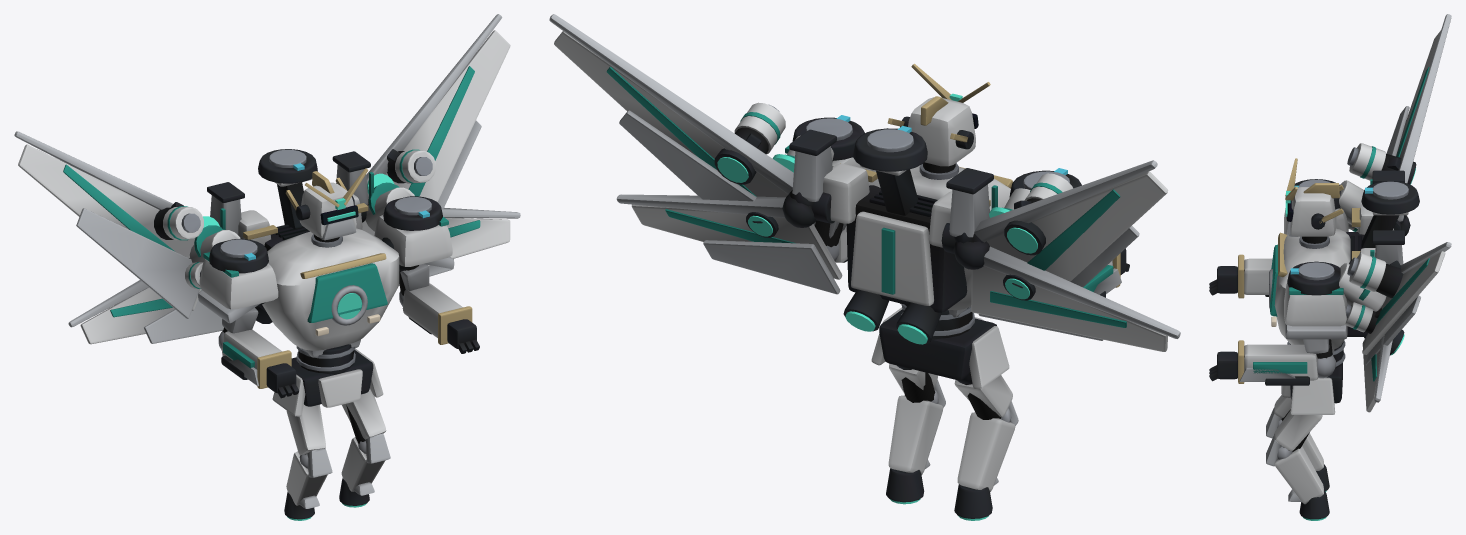
File: ex_seraph_4.glb
3 renders of one model, left to right at view 1: azimuth 30°, elevation 25°; view 2: azimuth 150°, elevation 25°; view 3: azimuth 270°, elevation 25°, orthographic. The views are drawn at different scales.
Visible parts, largest first — view 1: body, flap_4, flap_0, flap_5, flap_1; view 2: body, flap_0, flap_4, flap_1, flap_5; view 3: body, flap_0, flap_4, flap_1.
Part boxes in pixels (bbox=[...]): body: bbox=[189, 149, 479, 520]; flap_4: bbox=[14, 131, 203, 318]; flap_0: bbox=[366, 14, 510, 208]; flap_5: bbox=[68, 258, 223, 344]; flap_1: bbox=[362, 207, 520, 285]; body: bbox=[772, 63, 1129, 520]; flap_0: bbox=[549, 14, 814, 206]; flap_4: bbox=[954, 160, 1168, 287]; flap_1: bbox=[616, 194, 842, 294]; flap_5: bbox=[953, 241, 1180, 351]; body: bbox=[1209, 158, 1419, 520]; flap_0: bbox=[1347, 242, 1451, 365]; flap_4: bbox=[1347, 14, 1451, 223]; flap_1: bbox=[1345, 302, 1392, 412].
Size of the model in its own units: 8.21 by 6.15 by 3.6.
